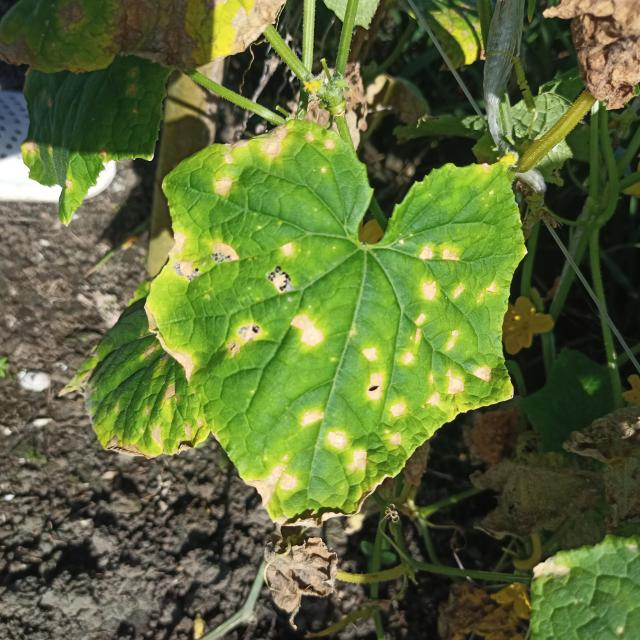disease_cucumber: (147, 123, 508, 514)
